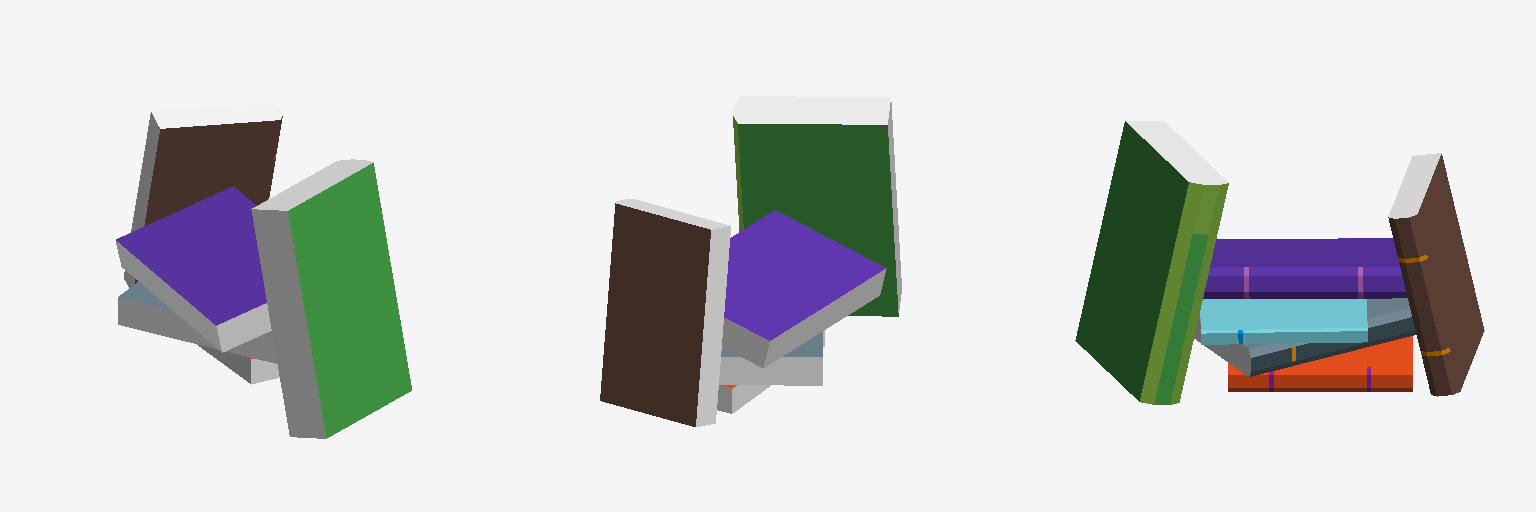
The picture shows the model from 3 angles: view 1: azimuth 30°, elevation 25°; view 2: azimuth 150°, elevation 25°; view 3: azimuth 270°, elevation 25°; orthographic projection.
Parts seen in each view (by area): view 1: group[number redacted], group[number redacted], group[number redacted], group[number redacted], group[number redacted]; view 2: group[number redacted], group[number redacted], group[number redacted], group[number redacted], group[number redacted]; view 3: group[number redacted], group[number redacted], group[number redacted], group[number redacted], group[number redacted], group[number redacted].
Part boxes in pixels (left/top/right/bottom): group[number redacted]: left=251, top=159, right=411, bottom=438; group[number redacted]: left=116, top=186, right=271, bottom=352; group[number redacted]: left=124, top=103, right=282, bottom=287; group[number redacted]: left=118, top=281, right=276, bottom=363; group[number redacted]: left=197, top=344, right=279, bottom=384; group[number redacted]: left=600, top=199, right=730, bottom=426; group[number redacted]: left=733, top=96, right=901, bottom=316; group[number redacted]: left=722, top=210, right=886, bottom=368; group[number redacted]: left=719, top=331, right=822, bottom=385; group[number redacted]: left=717, top=330, right=824, bottom=413; group[number redacted]: left=1075, top=121, right=1228, bottom=404; group[number redacted]: left=1388, top=153, right=1484, bottom=396; group[number redacted]: left=1203, top=238, right=1407, bottom=298; group[number redacted]: left=1200, top=299, right=1367, bottom=344; group[number redacted]: left=1228, top=336, right=1412, bottom=391; group[number redacted]: left=1194, top=298, right=1415, bottom=376.
Size of the model in its own units: 0.48 by 0.5379 by 0.8832.